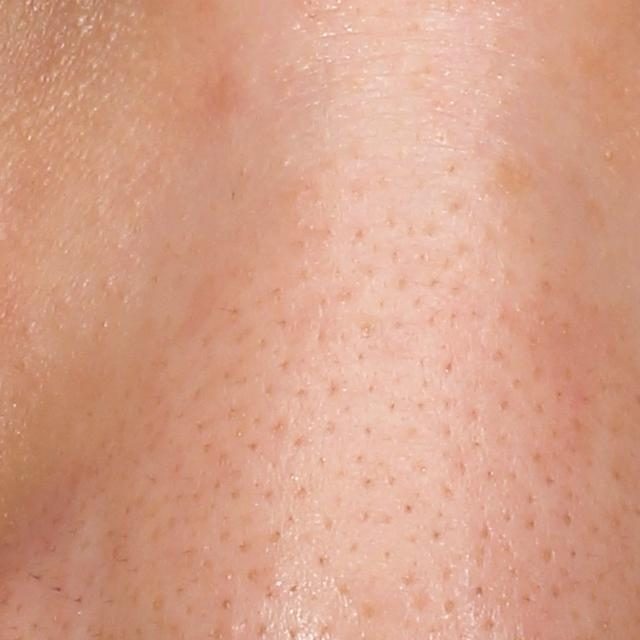melasma: (491, 154, 536, 202)
